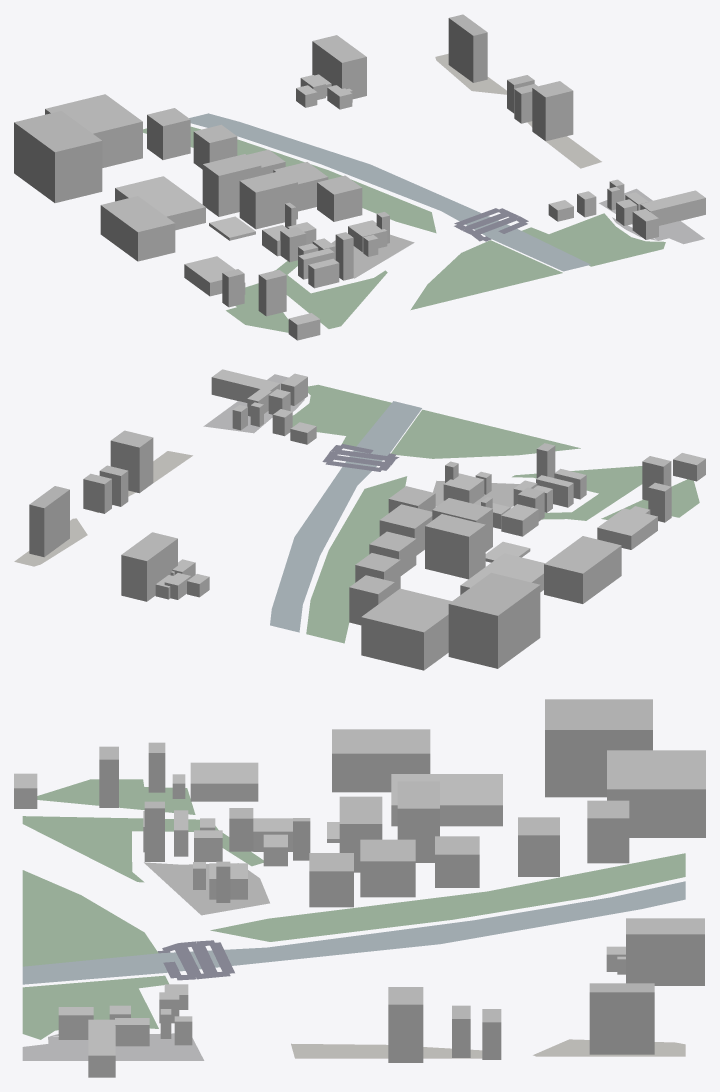
Rendered from 131_98_mid.glb.
The picture shows the model from 3 angles, top to bottom: view 1: azimuth 30°, elevation 25°; view 2: azimuth 150°, elevation 25°; view 3: azimuth 270°, elevation 25°; orthographic projection. The views are drawn at different scales.
Bounding box in the file's own units: 551 × 58.1 × 522.
